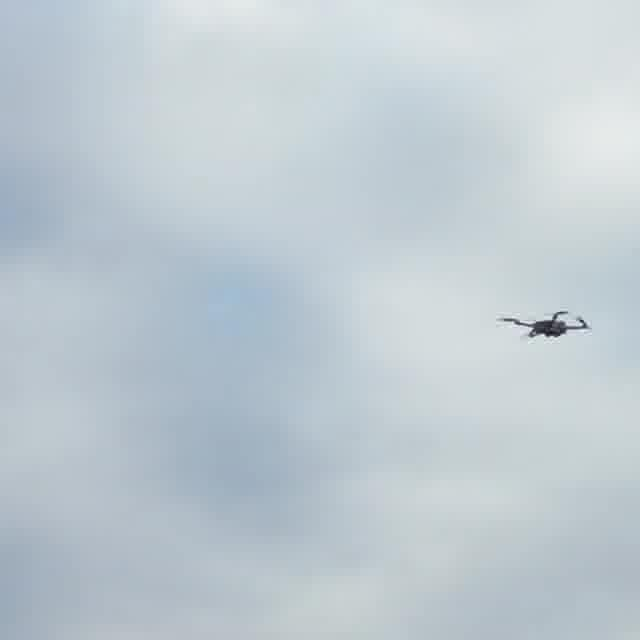Drohne: (498, 310, 590, 337)
